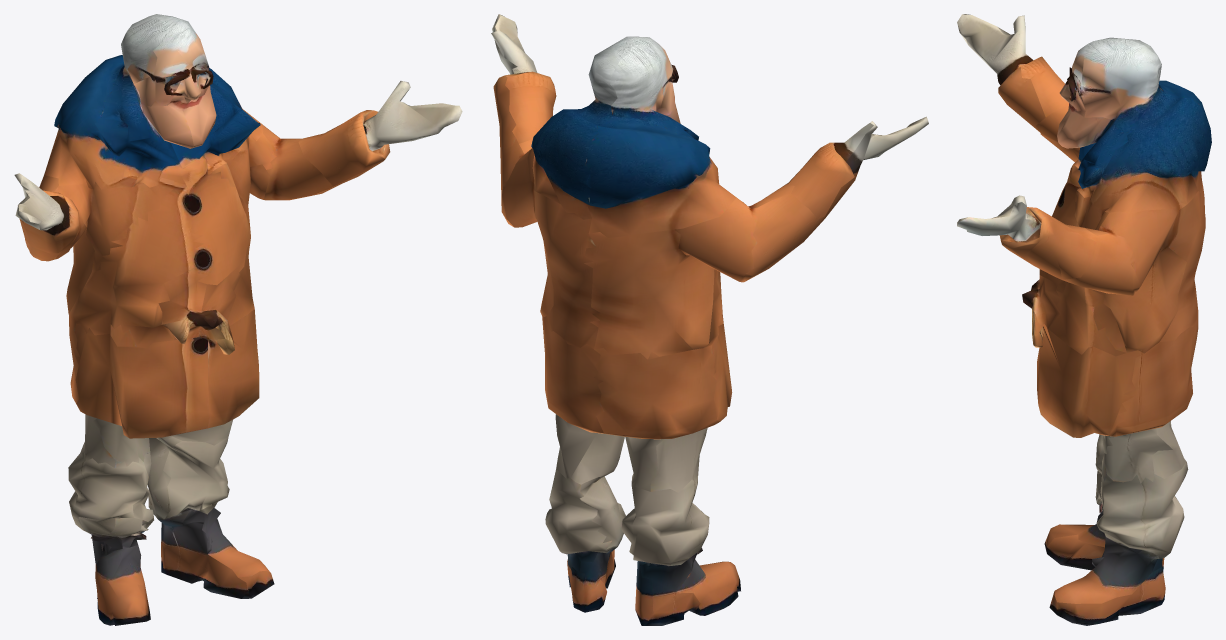
The model's file is ice_master.glb.
3 views of the same model, side by side, from view 1: azimuth 30°, elevation 25°; view 2: azimuth 150°, elevation 25°; view 3: azimuth 270°, elevation 25° (orthographic). The views are drawn at different scales.
Bounding box in the file's own units: 1.53 × 1.91 × 0.7985.
1 material, 1 textured.
